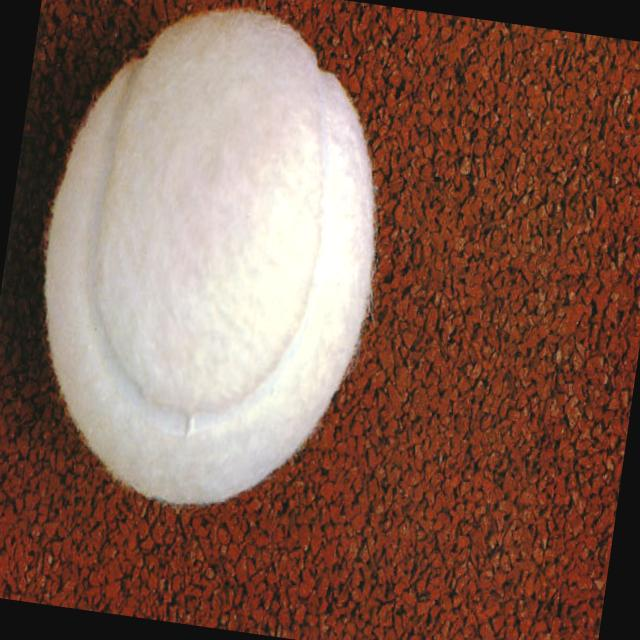Tennis Ball: (42, 10, 377, 508)
